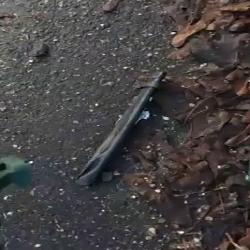Plastic: (76, 71, 167, 185)
